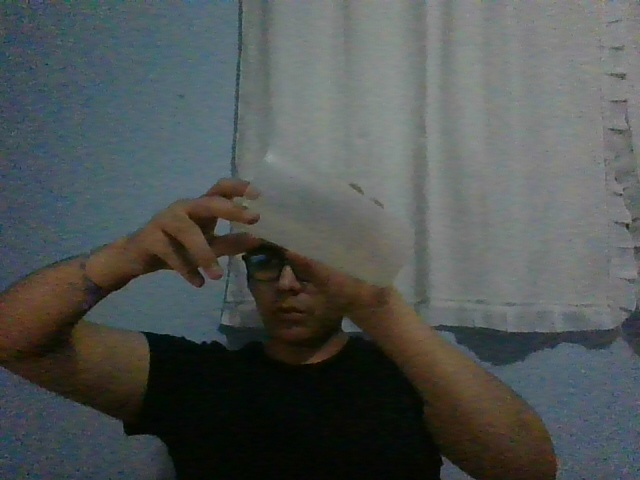vaso: (230, 143, 415, 288)
